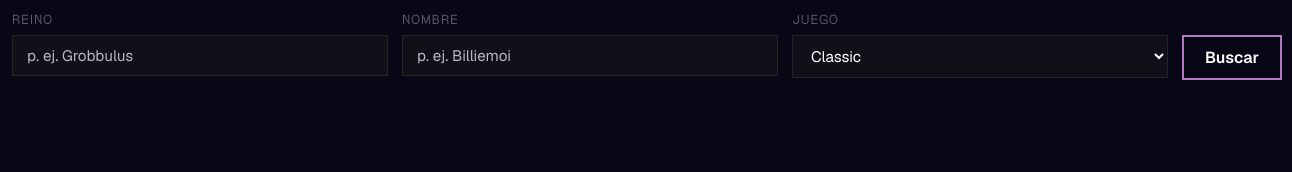
it: CharacterSearchForm › clears a field error when the field changes
This screenshot has width=1292, height=172.
Click the button "Buscar". click: [1232, 58]
box: [1182, 35, 1282, 80]
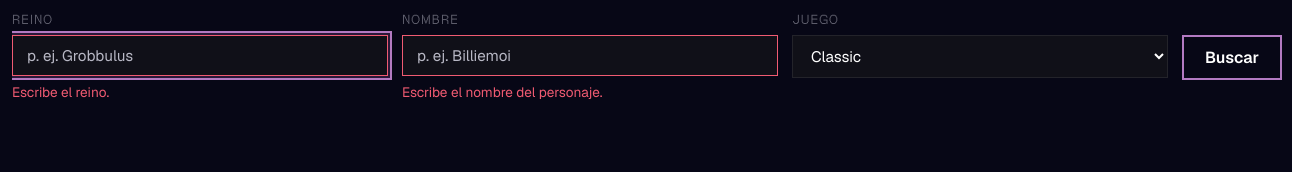
Type "g" into the field labelled "Reino". click: [200, 56]
box: [12, 35, 388, 76]
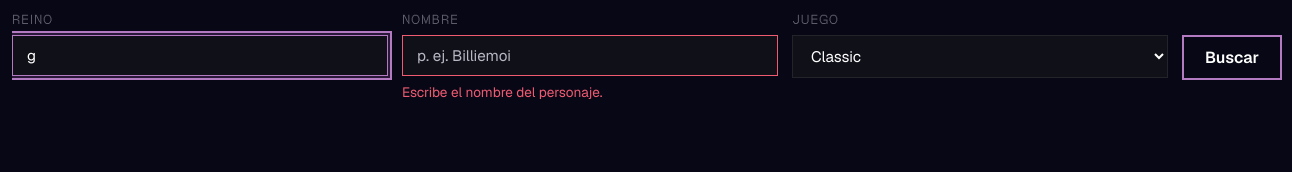
Check: the field labelled "Reino" is not marked as invalid, box [12, 35, 388, 76]
Check: the field labelled "Reino" does not have attribute aria-describedby, box [12, 35, 388, 76]
